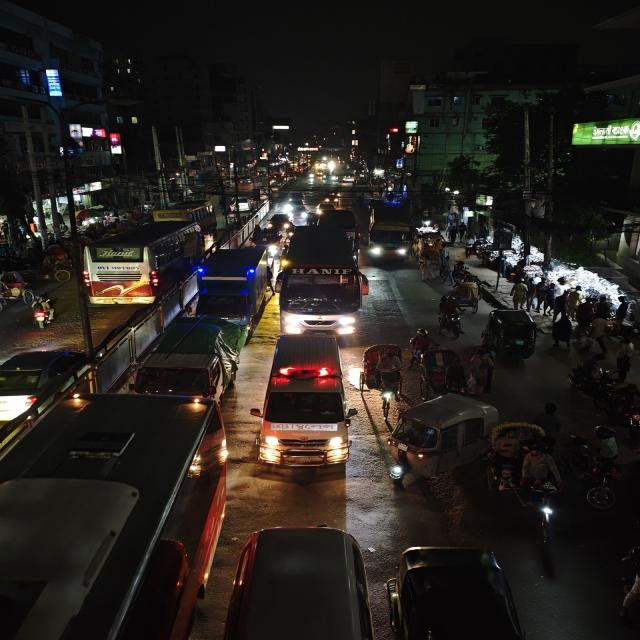bus: (1, 394, 235, 640), (257, 331, 354, 471), (80, 219, 200, 308), (278, 222, 367, 336), (365, 216, 414, 264)
car: (134, 316, 240, 404), (0, 343, 91, 422), (250, 226, 283, 247), (265, 212, 293, 232)
cng: (387, 544, 528, 640), (390, 393, 501, 474), (485, 307, 541, 364)
motorcycle: (566, 428, 625, 514), (516, 482, 562, 546), (567, 360, 618, 410), (615, 542, 640, 638), (602, 382, 640, 429), (435, 295, 466, 340), (406, 326, 438, 366), (29, 293, 58, 330)
pedestrian: (468, 349, 499, 394), (448, 277, 483, 313), (442, 360, 473, 397), (551, 313, 575, 352), (588, 314, 611, 352), (612, 348, 634, 378), (510, 279, 530, 310)
rickshaw: (479, 422, 553, 508), (359, 342, 405, 412), (38, 243, 72, 281), (0, 269, 33, 303)
truck: (194, 245, 274, 323)
